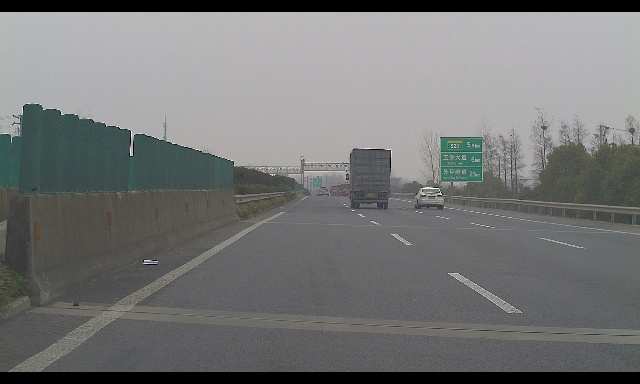car: (414, 185, 444, 209), (317, 187, 330, 196)
truck: (346, 148, 391, 210), (338, 182, 351, 197), (329, 186, 339, 196)
